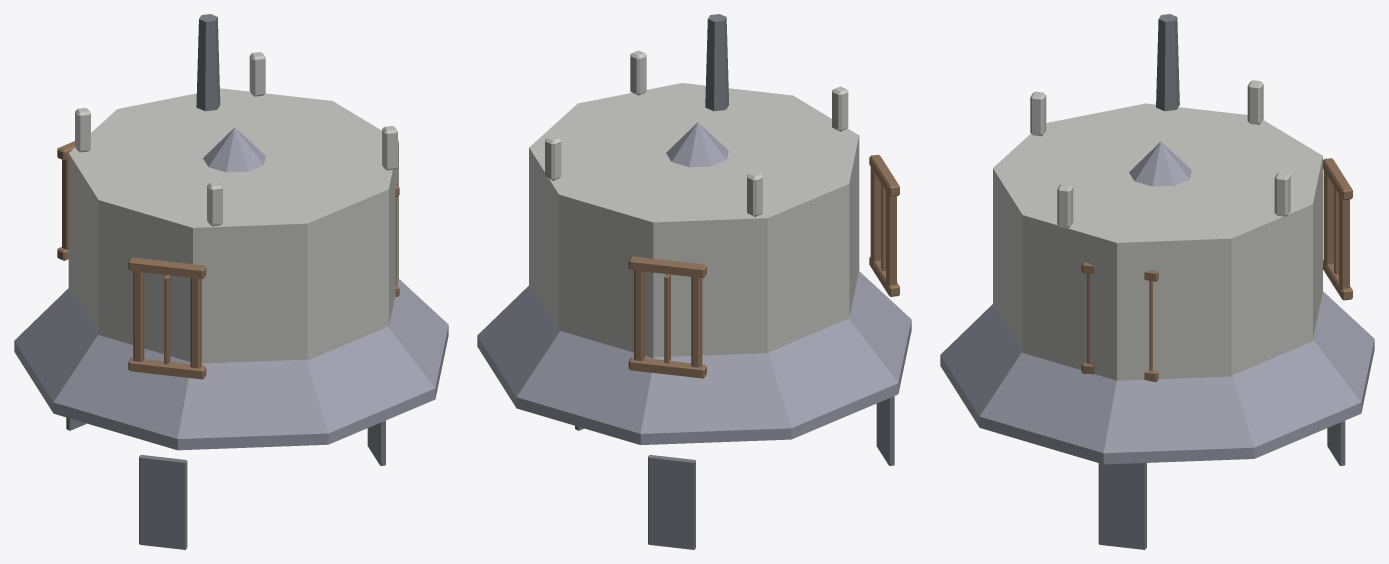
Rendered from town_wizard_tower_top.glb.
3 views of the same model, side by side, from view 1: azimuth 30°, elevation 25°; view 2: azimuth 150°, elevation 25°; view 3: azimuth 270°, elevation 25° (orthographic).
Visible parts, largest first — view 1: world; view 2: world; view 3: world.
Boxes of the visible parts, left/top/right/bottom form: world: left=14, top=14, right=448, bottom=549; world: left=477, top=14, right=911, bottom=549; world: left=940, top=14, right=1374, bottom=549.
Bounding box in the file's own units: 1.72 × 2 × 1.72.
